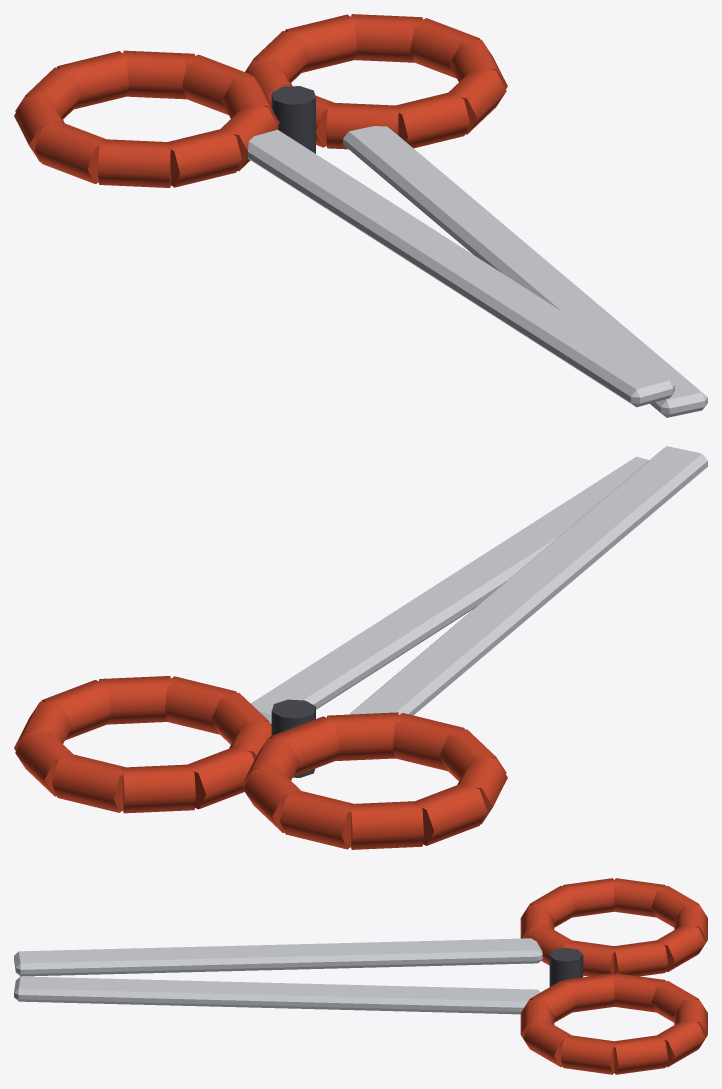
File: tesoura.obj
3 renders of one model, top to bottom at view 1: azimuth 30°, elevation 25°; view 2: azimuth 150°, elevation 25°; view 3: azimuth 270°, elevation 25°, orthographic. The views are drawn at different scales.
Parts seen in each view (by area): view 1: tesoura; view 2: tesoura; view 3: tesoura.
Part boxes in pixels (x1,y1,x2,y2): tesoura: (14,14,707,417); tesoura: (14,446,707,849); tesoura: (14,878,707,1074).
Bounding box in the file's own units: 0.0804 × 0.01 × 0.1446.
